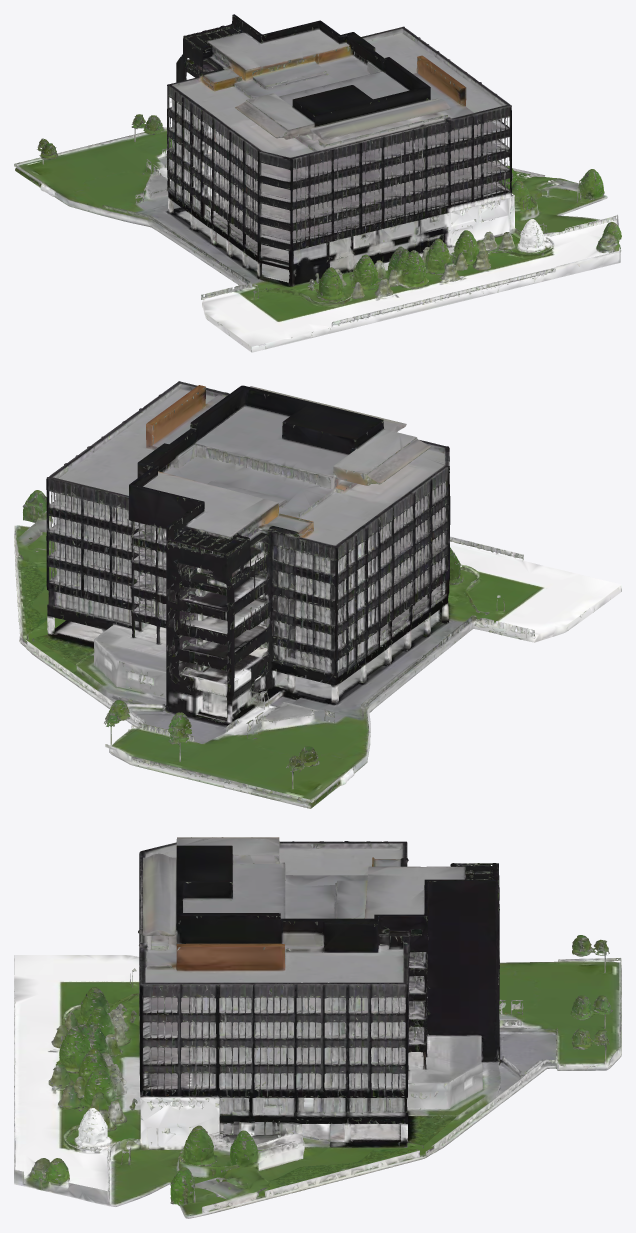
File: building-high-final.glb
The picture shows the model from 3 angles, top to bottom: view 1: azimuth 30°, elevation 25°; view 2: azimuth 150°, elevation 25°; view 3: azimuth 270°, elevation 25°; orthographic projection. The views are drawn at different scales.
Visible parts, largest first — view 1: Mesh_0.002; view 2: Mesh_0.002; view 3: Mesh_0.002.
Boxes of the visible parts, left/top/right/bottom form: Mesh_0.002: left=14, top=14, right=621, bottom=352; Mesh_0.002: left=14, top=381, right=621, bottom=808; Mesh_0.002: left=14, top=837, right=621, bottom=1218.
Bounding box in the file's own units: 84.9 × 29.99 × 84.94.
1 material, 1 textured.
